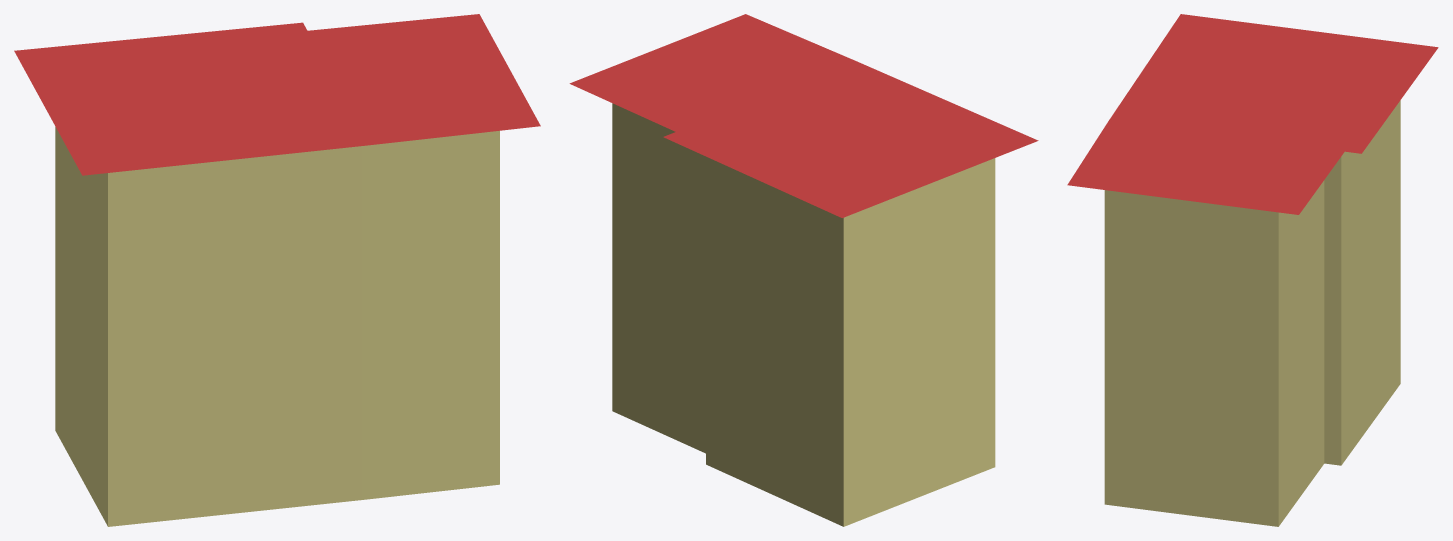
3 views of the same model, side by side, from view 1: azimuth 30°, elevation 25°; view 2: azimuth 150°, elevation 25°; view 3: azimuth 270°, elevation 25° (orthographic). The views are drawn at different scales.
Visible parts, largest first — view 1: group_5, group_3, group_4; view 2: group_5, group_3, group_4; view 3: group_5, group_3, group_4.
Part boxes in pixels (x1=…): group_5: x1=55, y1=127, x2=499, y2=526; group_3: x1=14, y1=14, x2=540, y2=175; group_4: x1=14, y1=14, x2=540, y2=175; group_5: x1=612, y1=103, x2=995, y2=526; group_3: x1=569, y1=14, x2=1038, y2=217; group_4: x1=571, y1=14, x2=1037, y2=217; group_5: x1=1104, y1=100, x2=1400, y2=526; group_3: x1=1067, y1=14, x2=1438, y2=214; group_4: x1=1068, y1=14, x2=1437, y2=214.
Bounding box in the file's own units: 7.77 × 6.07 × 5.91.
